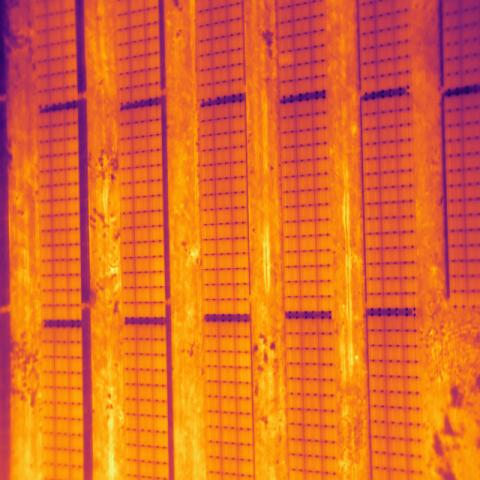fault: (277, 51, 294, 68)
